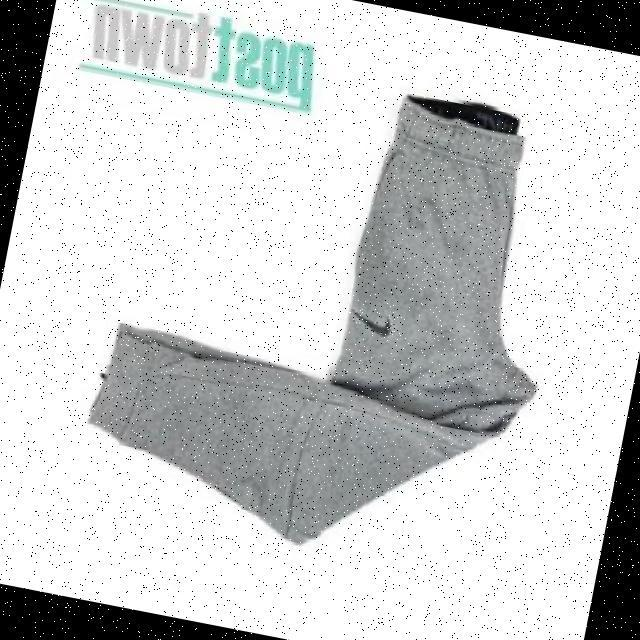Nike: (351, 307, 397, 337)
